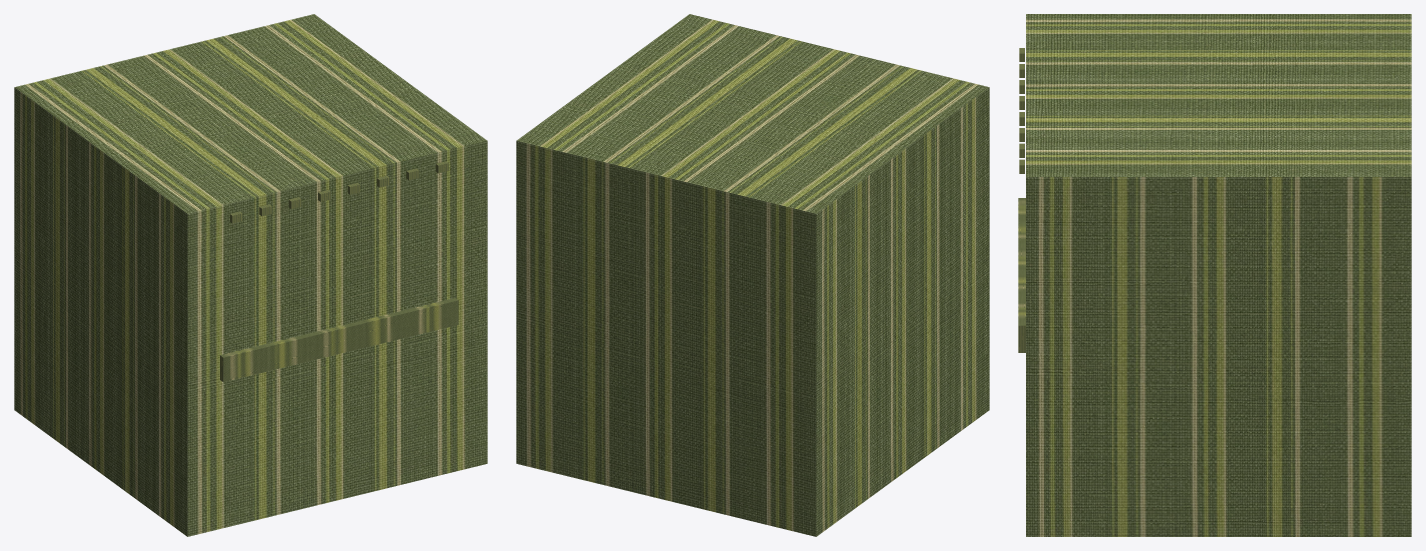
File: pillow.gltf
The picture shows the model from 3 angles, left to right: view 1: azimuth 30°, elevation 25°; view 2: azimuth 150°, elevation 25°; view 3: azimuth 270°, elevation 25°; orthographic projection. The views are drawn at different scales.
Visible parts, largest first — view 1: soft, seam; view 2: soft; view 3: soft, seam.
Part boxes in pixels (<box>): soft: <box>14,14,487,536</box>; seam: <box>220,298,458,382</box>; soft: <box>516,14,989,536</box>; soft: <box>1026,14,1411,536</box>; seam: <box>1018,198,1025,352</box>.
Size of the model in its own units: 1.02 by 1.05 by 1.04.
Materials: 3 (3 with a texture image).
